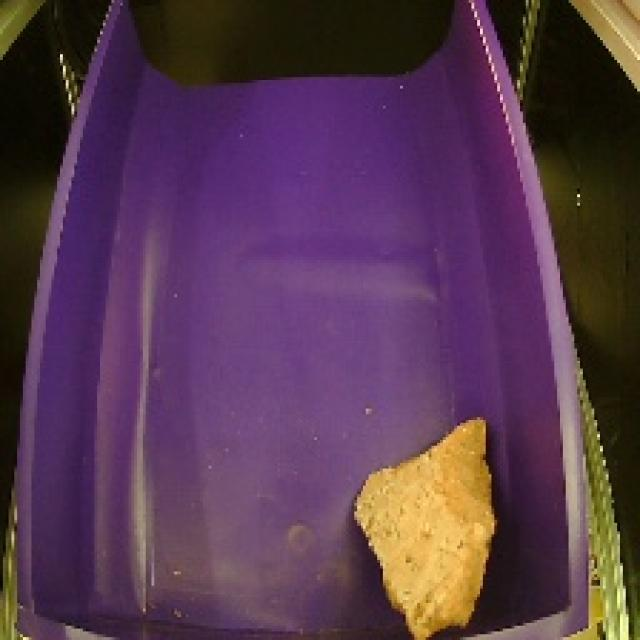brick: (343, 405, 506, 640)
